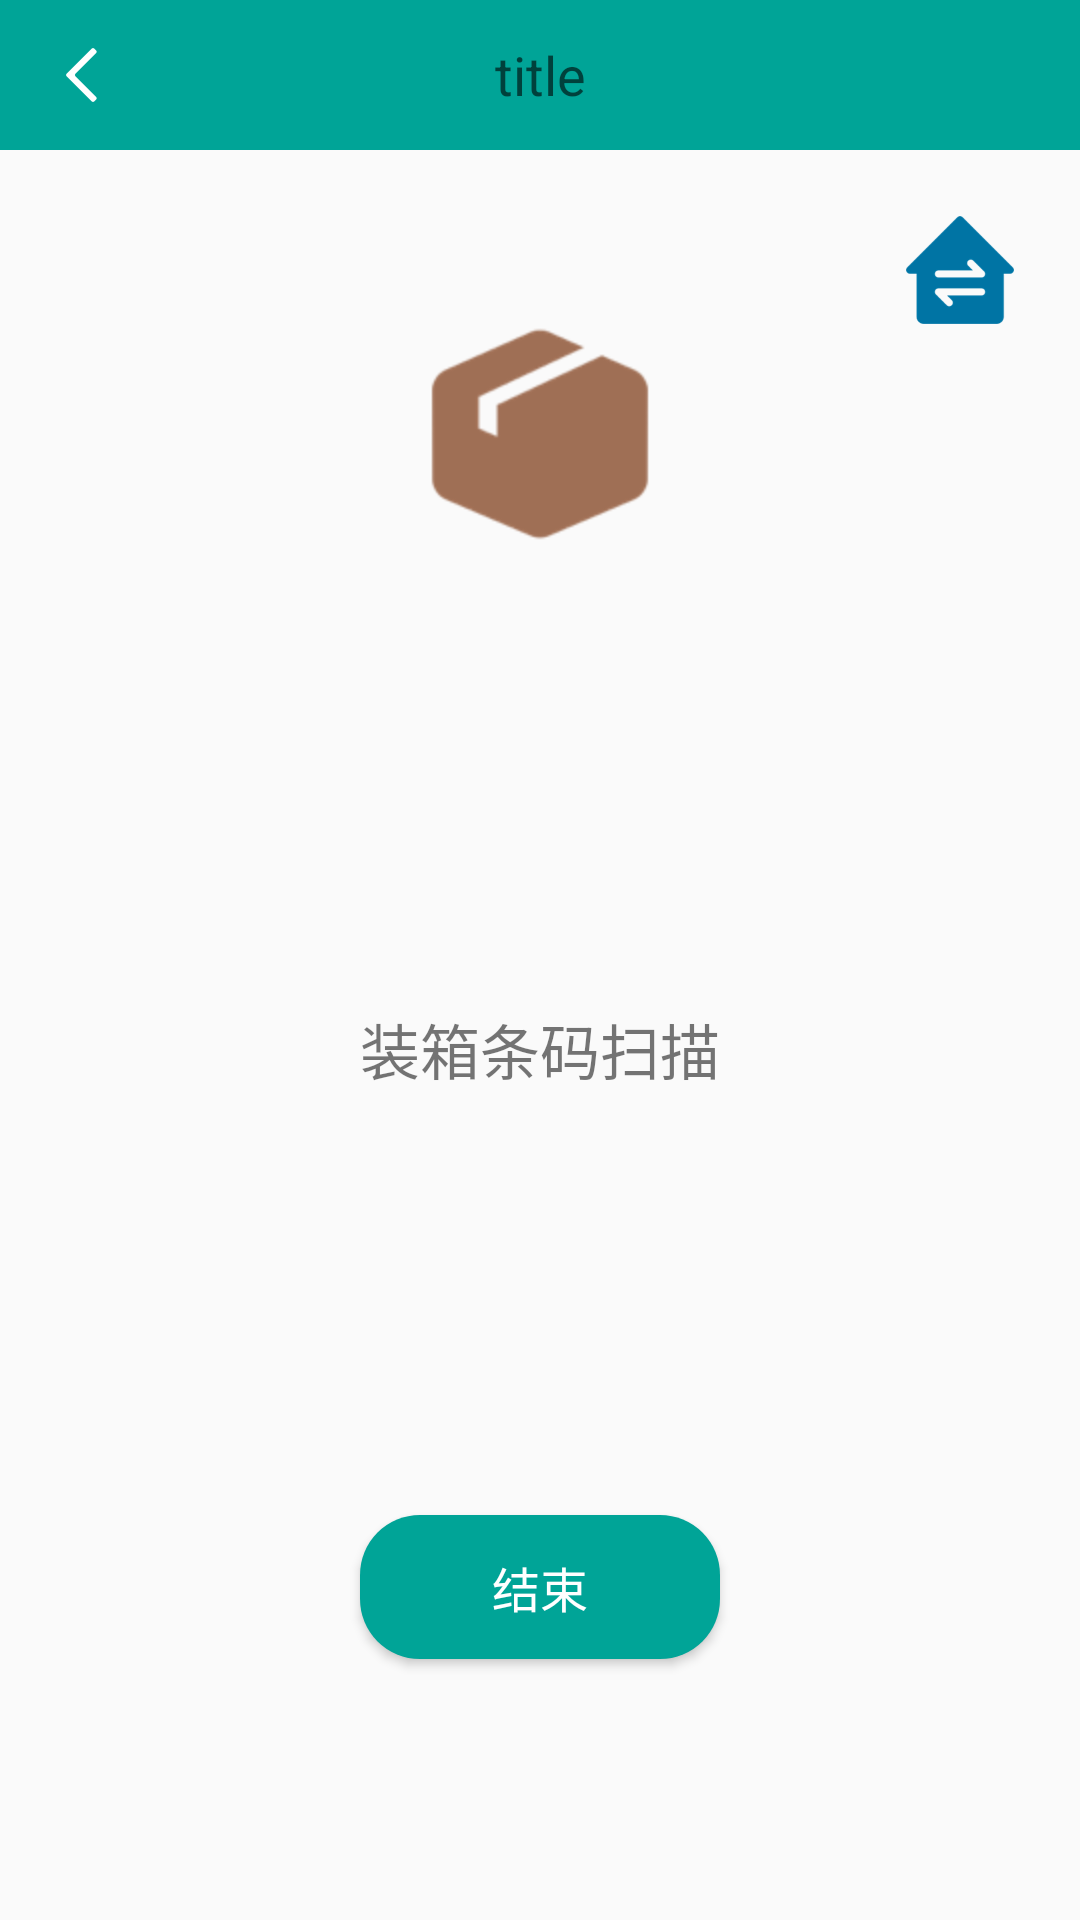

Icons on this 1080px x 1920px Android screen, each with the point to tap as point (x, y):
home: point (960, 270)
